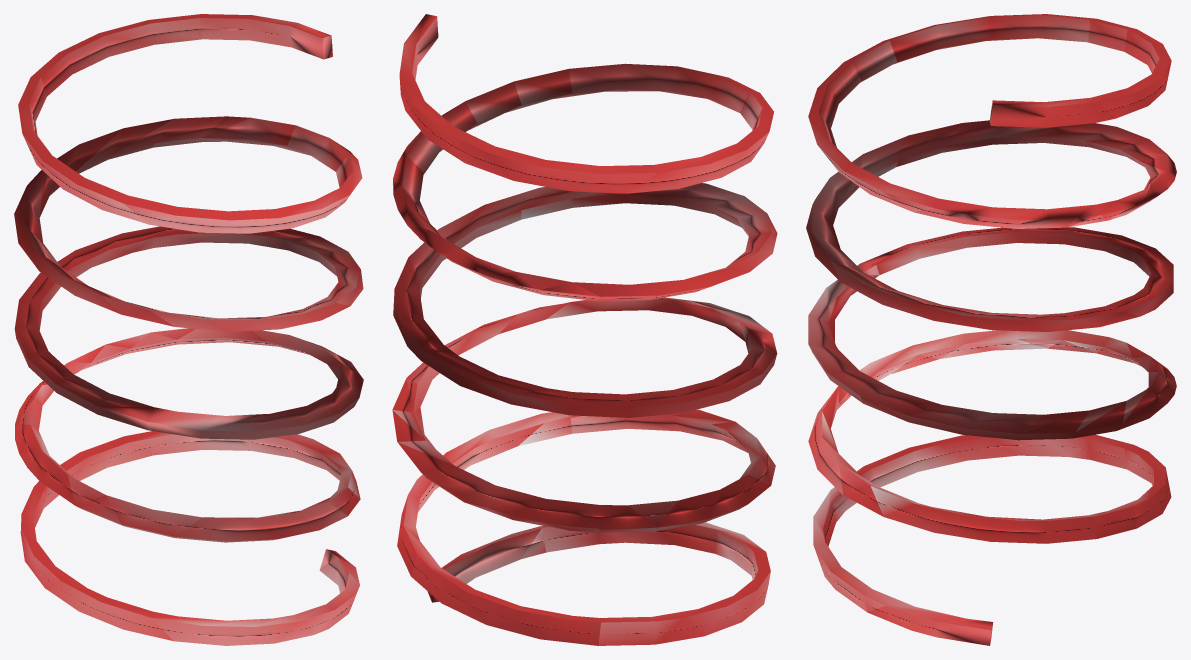
The model's file is speed-coil-face-corner.glb.
3 renders of one model, left to right at view 1: azimuth 30°, elevation 25°; view 2: azimuth 150°, elevation 25°; view 3: azimuth 270°, elevation 25°, orthographic. The views are drawn at different scales.
Parts seen in each view (by area): view 1: Asset3DLoader.sceneRoot; view 2: Asset3DLoader.sceneRoot; view 3: Asset3DLoader.sceneRoot.
Part boxes in pixels (x1,y1,x2,y2): Asset3DLoader.sceneRoot: [14, 14, 363, 645]; Asset3DLoader.sceneRoot: [392, 14, 777, 645]; Asset3DLoader.sceneRoot: [806, 14, 1176, 645].
Size of the model in its own units: 0.3749 by 0.641 by 0.397.
